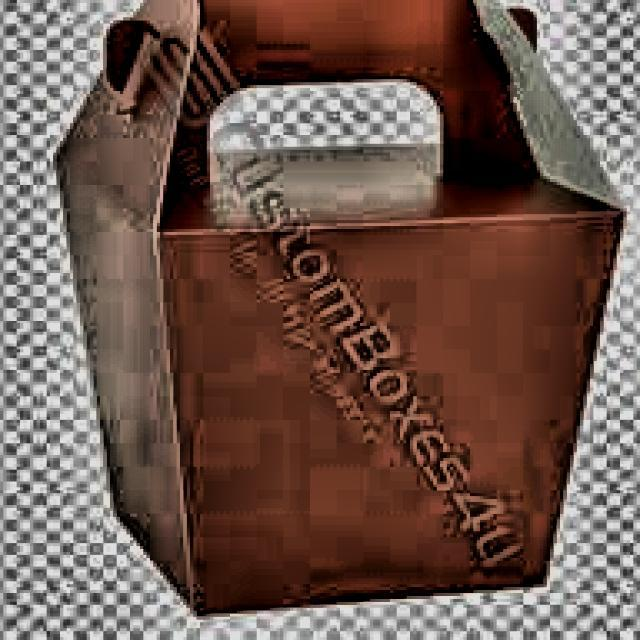cardboard: (50, 0, 627, 617)
